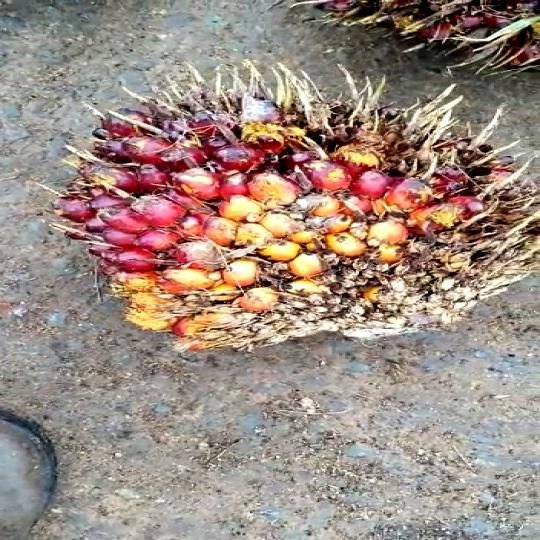masak: (52, 78, 540, 354)
